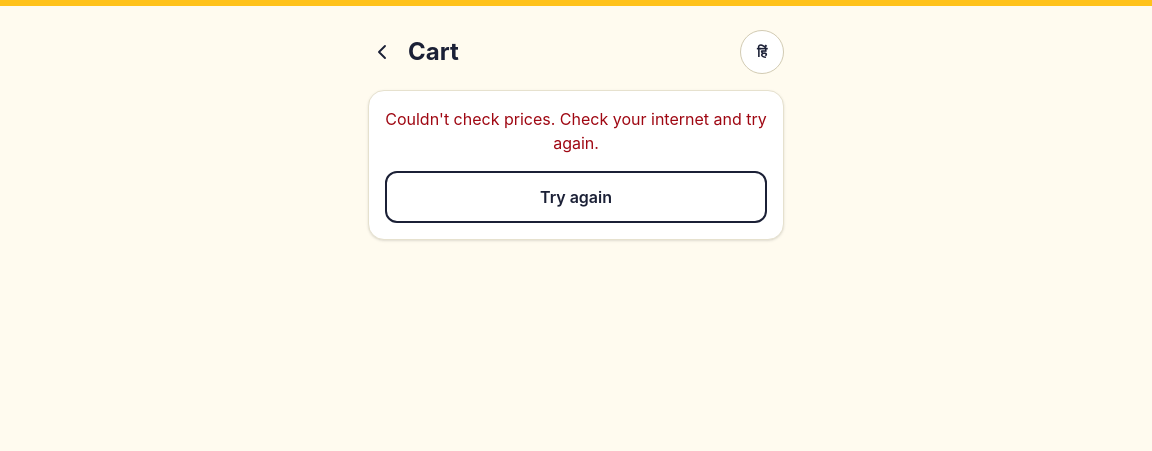
Test: Cart › quote fails: message and retry
Click the button "Try again" at x=576, y=197, box 385,171 -> 767,223
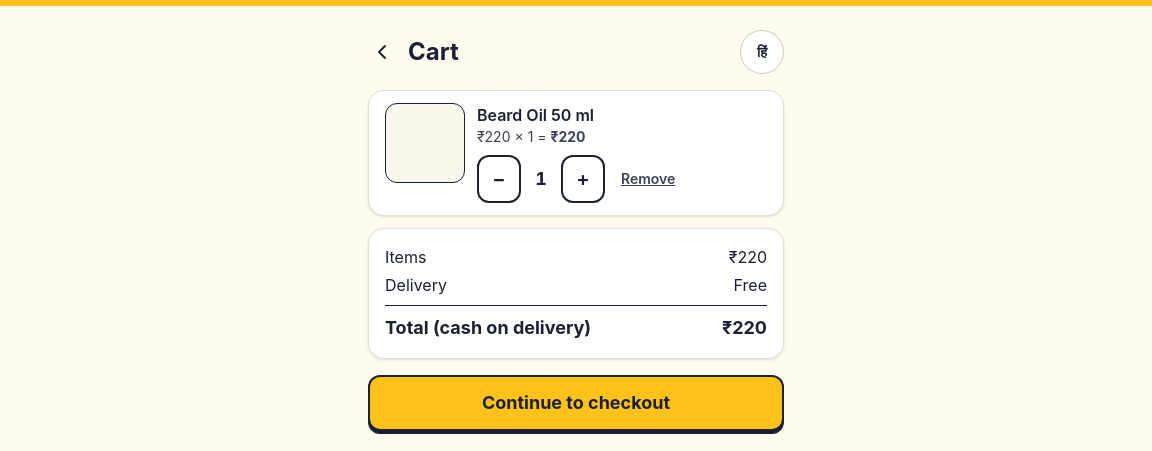
Check: the text "Total (cash on delivery)" is shown, box 385,314 -> 591,342
